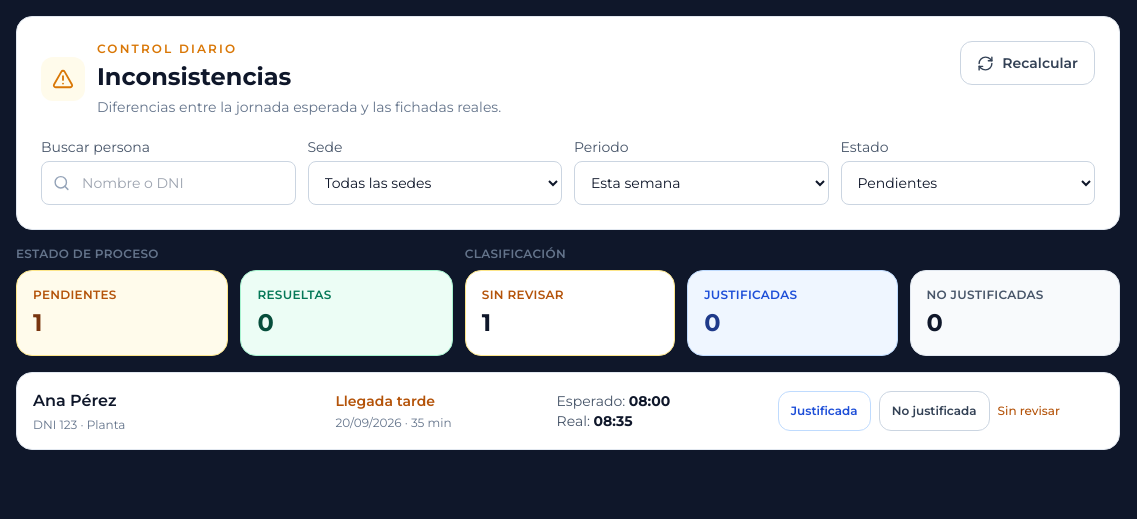
attendance review › mueve una inconsistencia clasificada de pendiente a resuelta
This screenshot has width=1137, height=519.
Click the button "Justificada" at (824, 411), box [778,391,871,431]
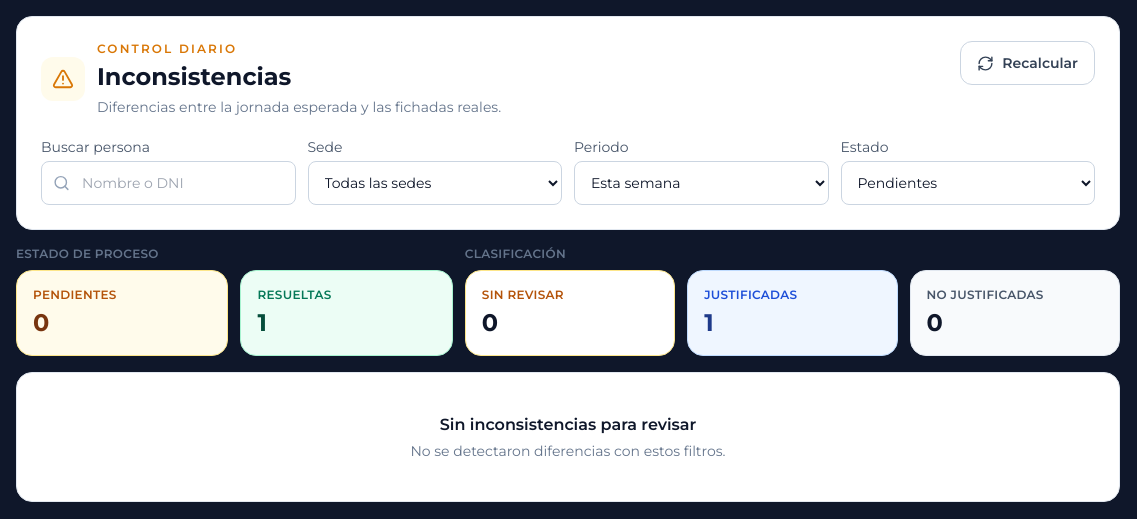
Check: the text "Ana Pérez" is gone
